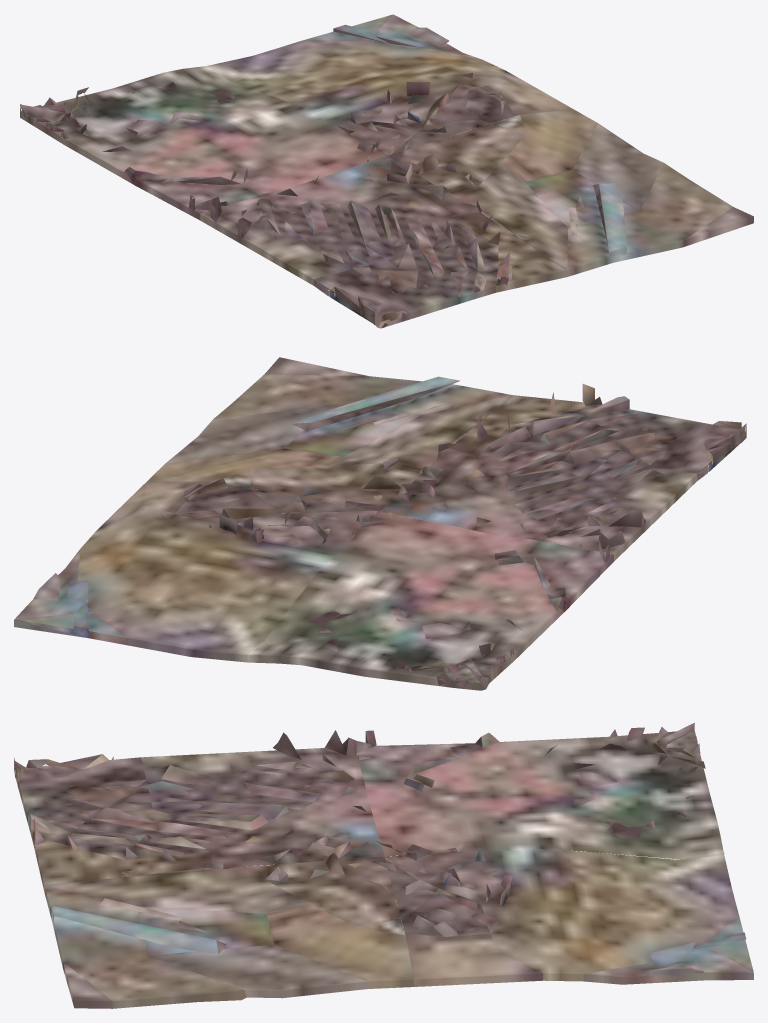
3 renders of one model, top to bottom at view 1: azimuth 30°, elevation 25°; view 2: azimuth 150°, elevation 25°; view 3: azimuth 270°, elevation 25°, orthographic. The views are drawn at different scales.
Parts seen in each view (by area): view 1: Mesh_0; view 2: Mesh_0; view 3: Mesh_0.
Part boxes in pixels (x1,y1,x2,y2): Mesh_0: [20, 14, 753, 328]; Mesh_0: [14, 357, 746, 690]; Mesh_0: [14, 723, 753, 1008].
Size of the model in its own units: 1080 by 93.93 by 1320.
Materials: 1 (1 with a texture image).
